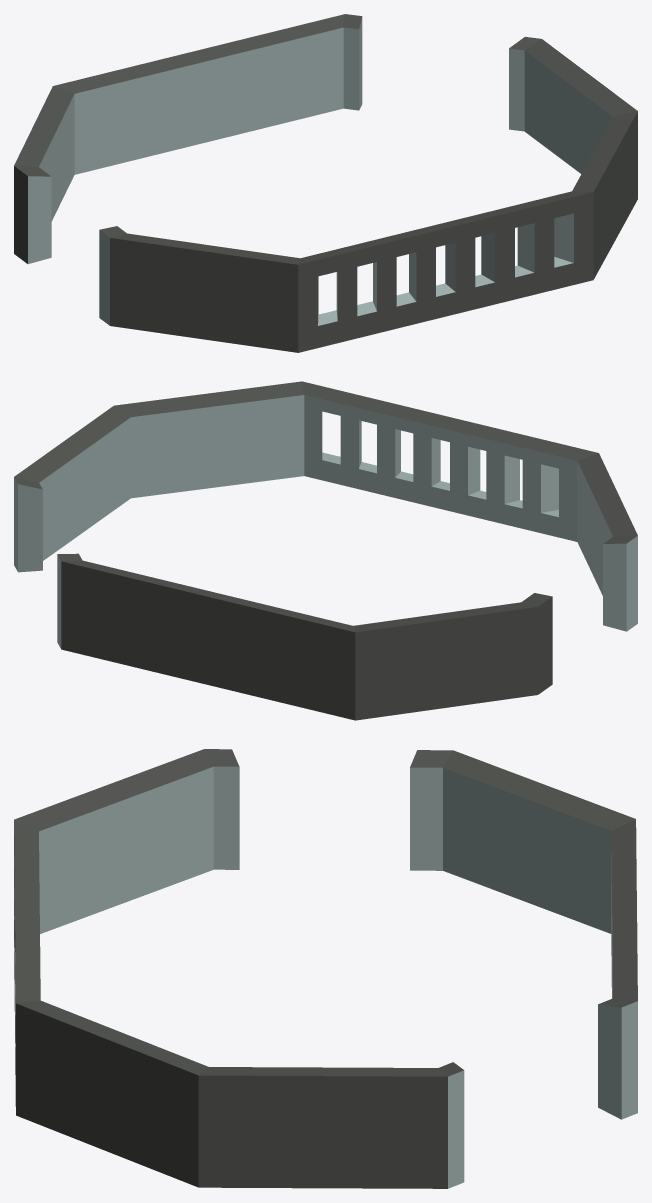
The model's file is specimenroom_walls.fbx.
3 views of the same model, one above another, from view 1: azimuth 30°, elevation 25°; view 2: azimuth 150°, elevation 25°; view 3: azimuth 270°, elevation 25° (orthographic). The views are drawn at different scales.
Visible parts, largest first — view 1: SpecimenRoom; view 2: SpecimenRoom; view 3: SpecimenRoom.
Part boxes in pixels (left/top/right/bottom): SpecimenRoom: left=14, top=14, right=637, bottom=352; SpecimenRoom: left=14, top=381, right=637, bottom=720; SpecimenRoom: left=14, top=749, right=637, bottom=1188.
Size of the model in its own units: 1891 by 302 by 1522.
